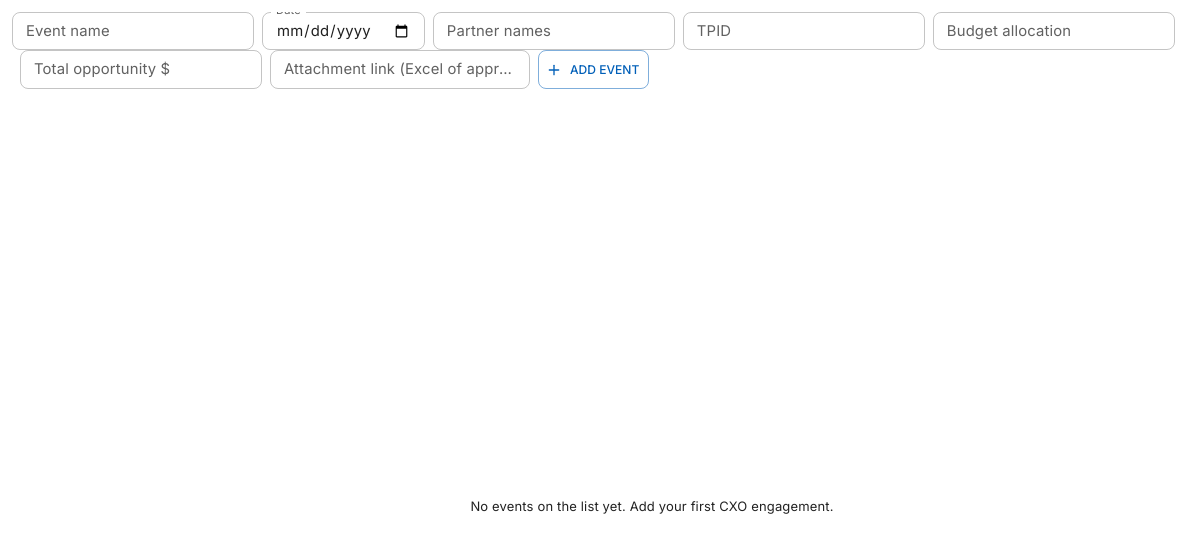
Test case: QuarterlyEventsTile › blocks save with a friendly message when required fields are missing
The width and height of the screenshot is (1192, 544).
Click the button "Add event" at (594, 69), box [538,50,649,89]
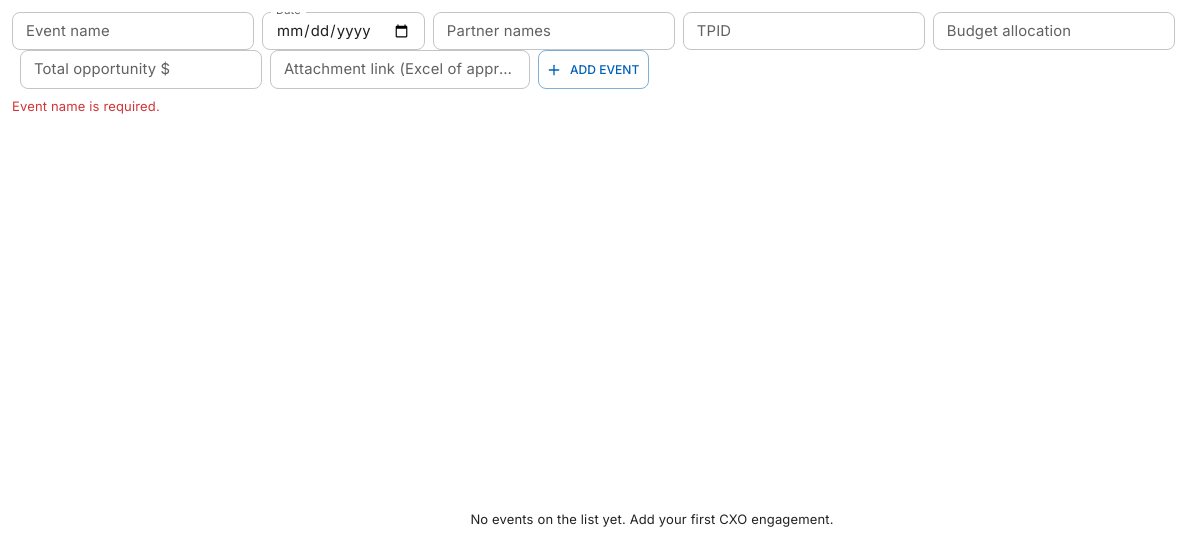
Check: the text "Event name is required." is shown, box [12,98,160,114]
